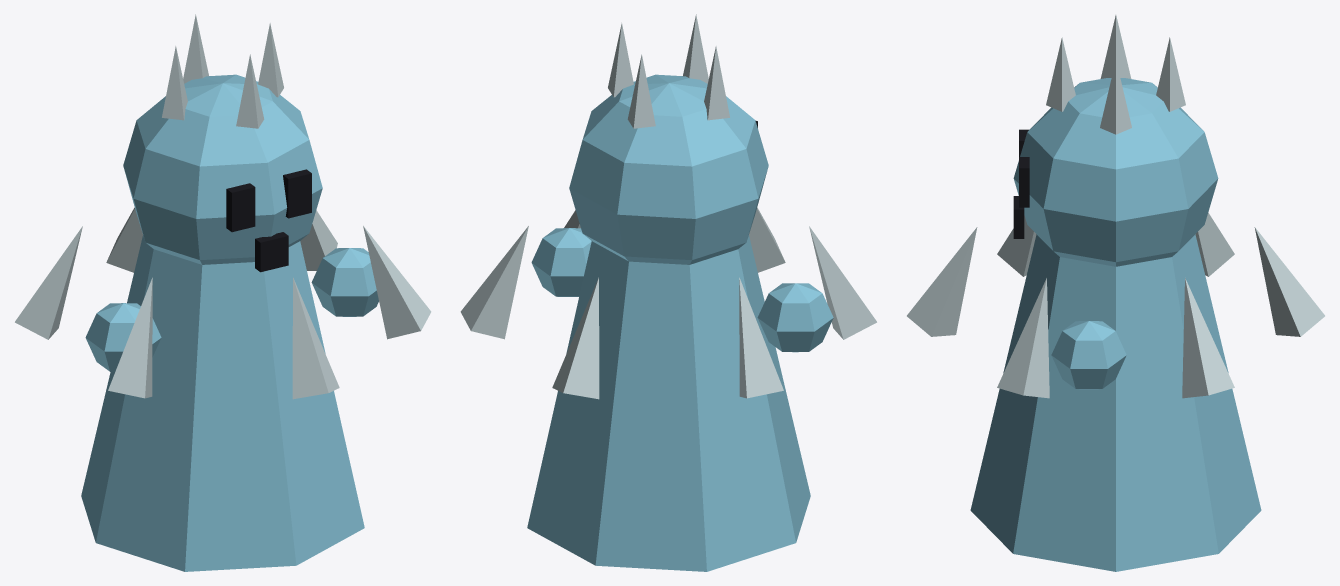
Rendered from e_icewraith.fbx.
The picture shows the model from 3 angles, left to right: view 1: azimuth 30°, elevation 25°; view 2: azimuth 150°, elevation 25°; view 3: azimuth 270°, elevation 25°; orthographic projection.
Visible parts, largest first — view 1: e_icewraith_Body; view 2: e_icewraith_Body; view 3: e_icewraith_Body.
Boxes of the visible parts, bbox=[...] form: e_icewraith_Body: bbox=[15, 14, 431, 571]; e_icewraith_Body: bbox=[460, 14, 876, 571]; e_icewraith_Body: bbox=[907, 15, 1324, 571].
Bounding box in the file's own units: 0.6869 × 0.97 × 0.7778.
